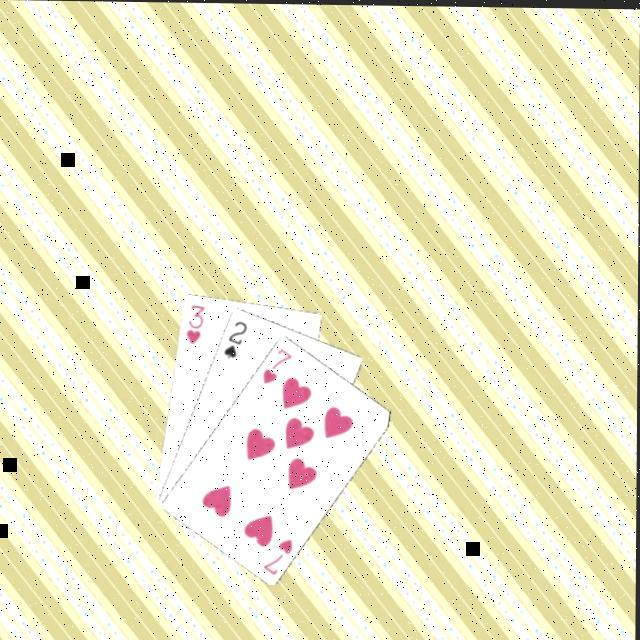2S: (219, 316, 249, 359)
3H: (182, 300, 208, 346)
7H: (259, 533, 295, 577), (258, 342, 294, 385)
